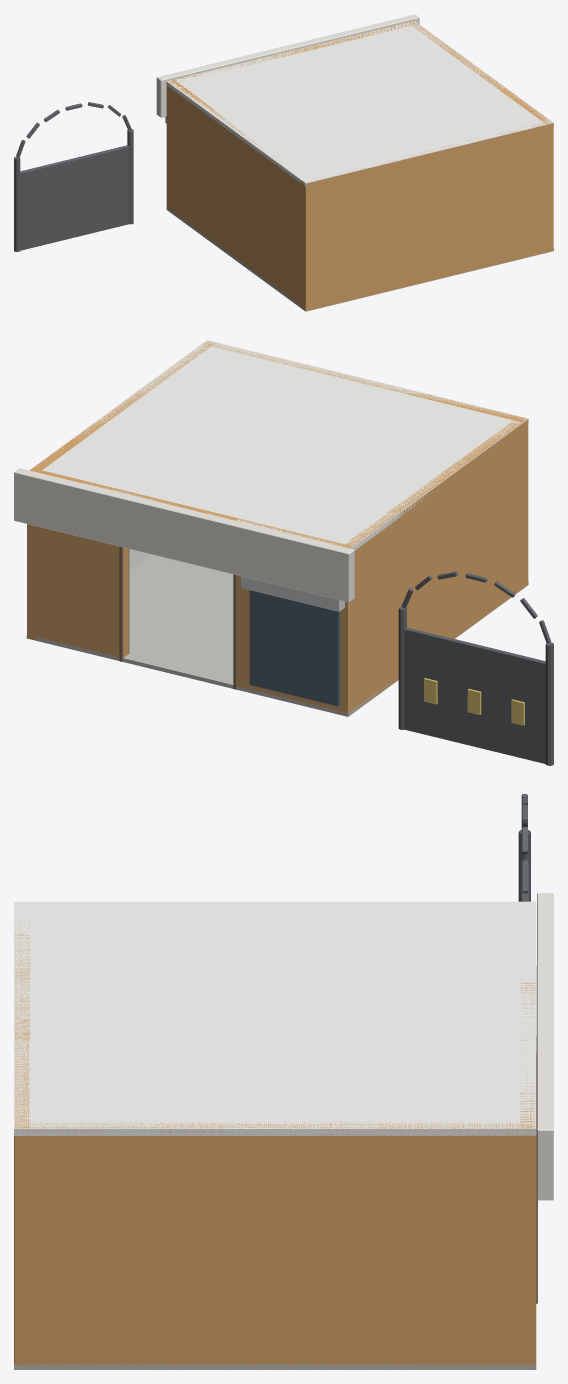
Rendered from Sultanbeyli_Shop58_ArchGate.fbx.
3 renders of one model, top to bottom at view 1: azimuth 30°, elevation 25°; view 2: azimuth 150°, elevation 25°; view 3: azimuth 270°, elevation 25°, orthographic. The views are drawn at different scales.
Visible parts, largest first — view 1: Sultanbeyli_Shop58_ArchGate; view 2: Sultanbeyli_Shop58_ArchGate; view 3: Sultanbeyli_Shop58_ArchGate.
Boxes of the visible parts, x1,y1,x2,y2 form: Sultanbeyli_Shop58_ArchGate: [14, 14, 553, 311]; Sultanbeyli_Shop58_ArchGate: [14, 340, 553, 765]; Sultanbeyli_Shop58_ArchGate: [14, 794, 553, 1369].
Size of the model in its own units: 11.53 by 3.56 by 7.03.
